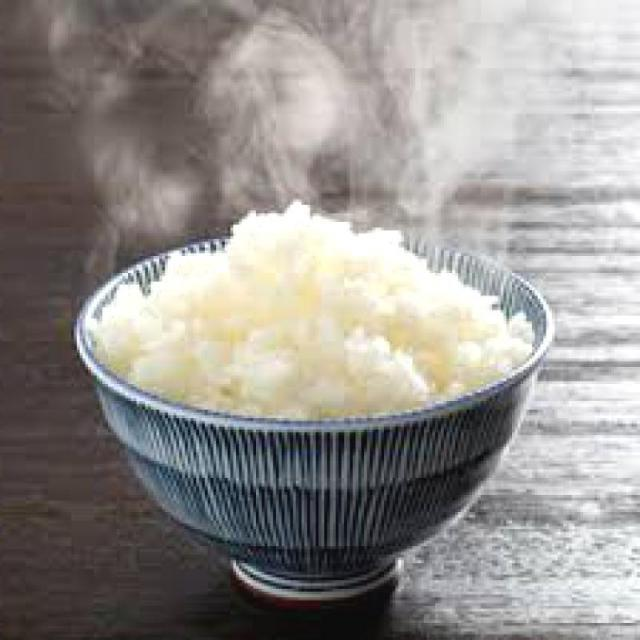rice: (92, 201, 533, 420)
